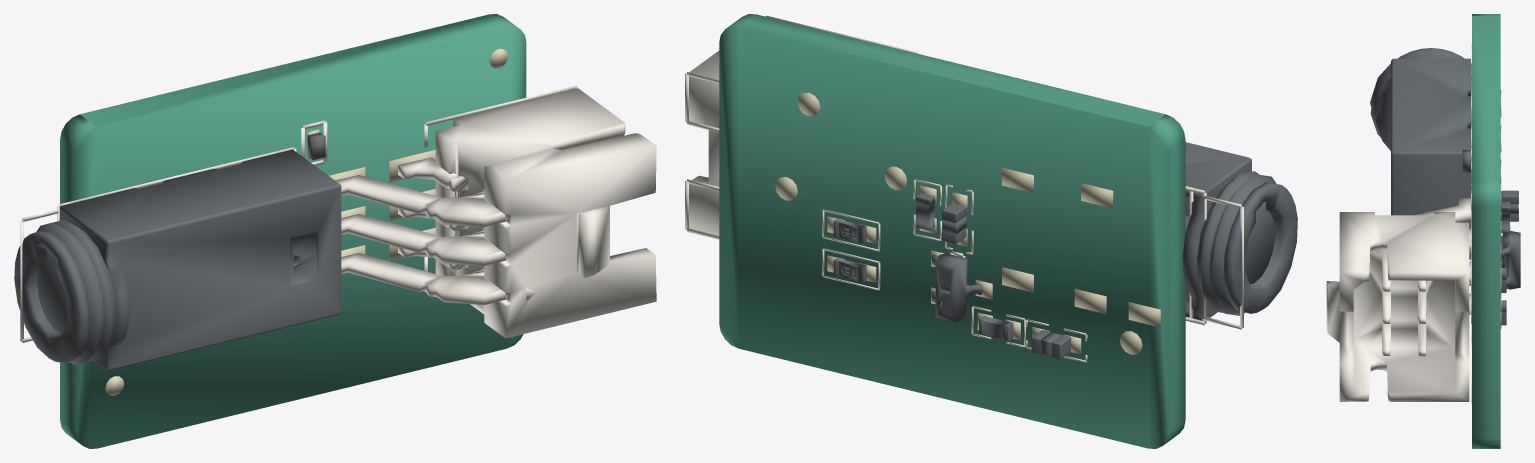
The model's file is pcb-jack-line-in.glb.
3 views of the same model, side by side, from view 1: azimuth 30°, elevation 25°; view 2: azimuth 150°, elevation 25°; view 3: azimuth 270°, elevation 25° (orthographic). The views are drawn at different scales.
Visible parts, largest first — view 1: pcb, body, plastic, silk, pads; view 2: pcb, body, pads, silk, plastic; view 3: plastic, body, pcb, pads, silk.
Part boxes in pixels (<box>): pcb: <box>60,14,526,448</box>; body: <box>14,132,341,370</box>; plastic: <box>335,88,656,338</box>; silk: <box>20,85,578,342</box>; pads: <box>105,48,508,395</box>; pcb: <box>719,14,1185,448</box>; body: <box>833,142,1297,359</box>; pads: <box>775,92,1160,354</box>; silk: <box>685,72,1243,362</box>; plastic: <box>689,15,917,235</box>; plastic: <box>1326,198,1471,401</box>; body: <box>1370,48,1520,325</box>; pcb: <box>1472,14,1500,448</box>; pads: <box>1471,90,1501,328</box>; silk: <box>1471,45,1471,403</box>.
Size of the model in its own units: 29.98 by 16.5 by 10.91.
